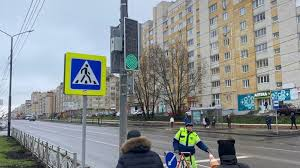tl: (121, 17, 143, 70)
